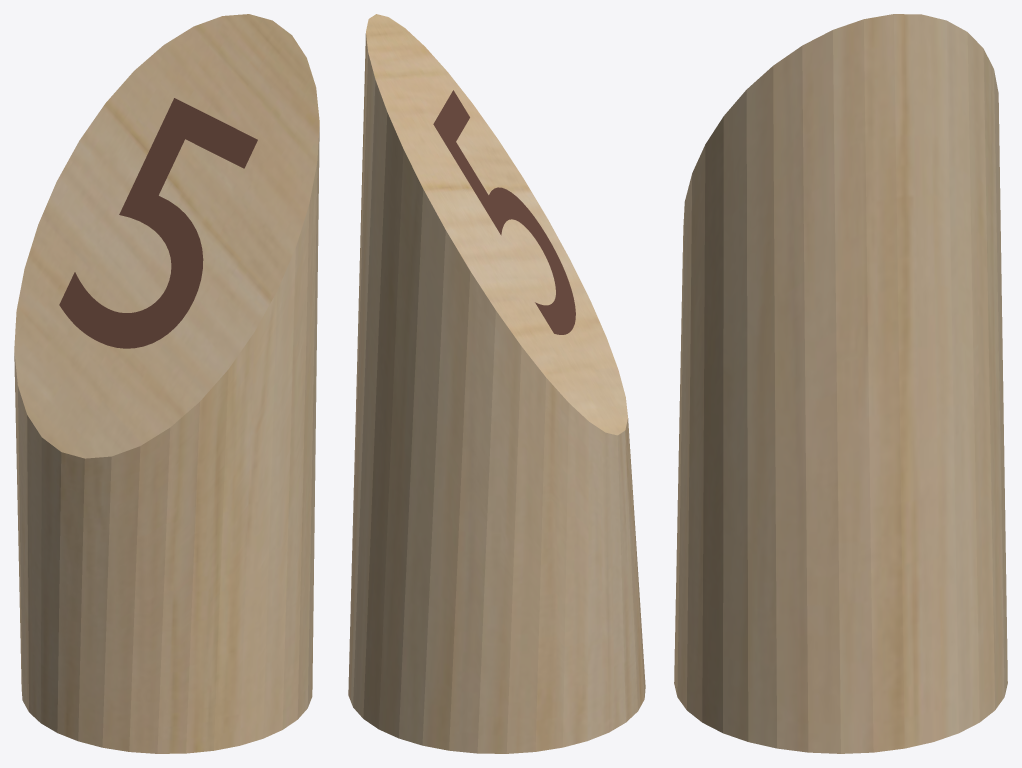
Rendered from pin5.glb.
The picture shows the model from 3 angles, left to right: view 1: azimuth 30°, elevation 25°; view 2: azimuth 150°, elevation 25°; view 3: azimuth 270°, elevation 25°; orthographic projection. The views are drawn at different scales.
Parts seen in each view (by area): view 1: 円柱.008; view 2: 円柱.008; view 3: 円柱.008.
Part boxes in pixels (left/top/right/bottom): 円柱.008: left=14, top=14, right=319, bottom=753; 円柱.008: left=348, top=14, right=645, bottom=753; 円柱.008: left=674, top=14, right=1007, bottom=753.
Bounding box in the file's own units: 1.16 × 2.79 × 1.16.
2 materials, 1 textured.
